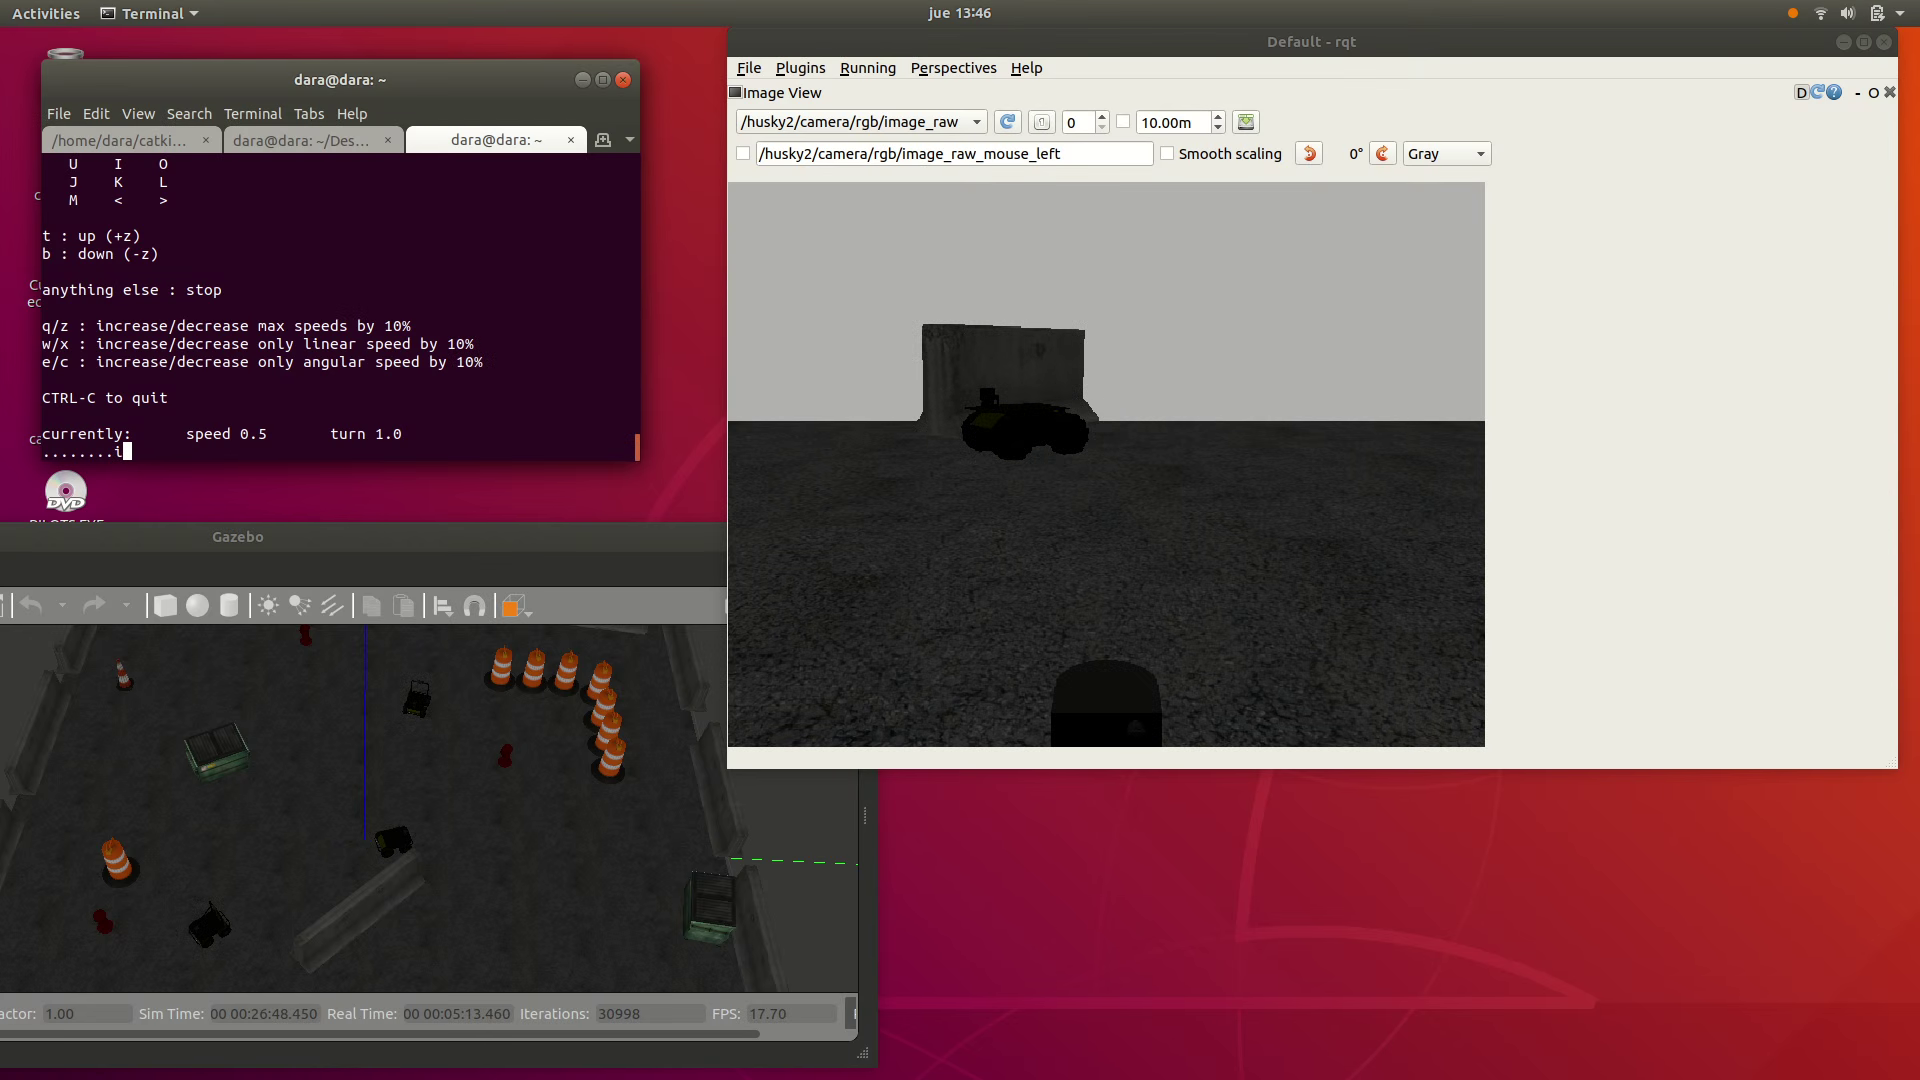husky: (962, 402, 1090, 461), (189, 911, 232, 947), (375, 826, 413, 858), (402, 690, 431, 717)
